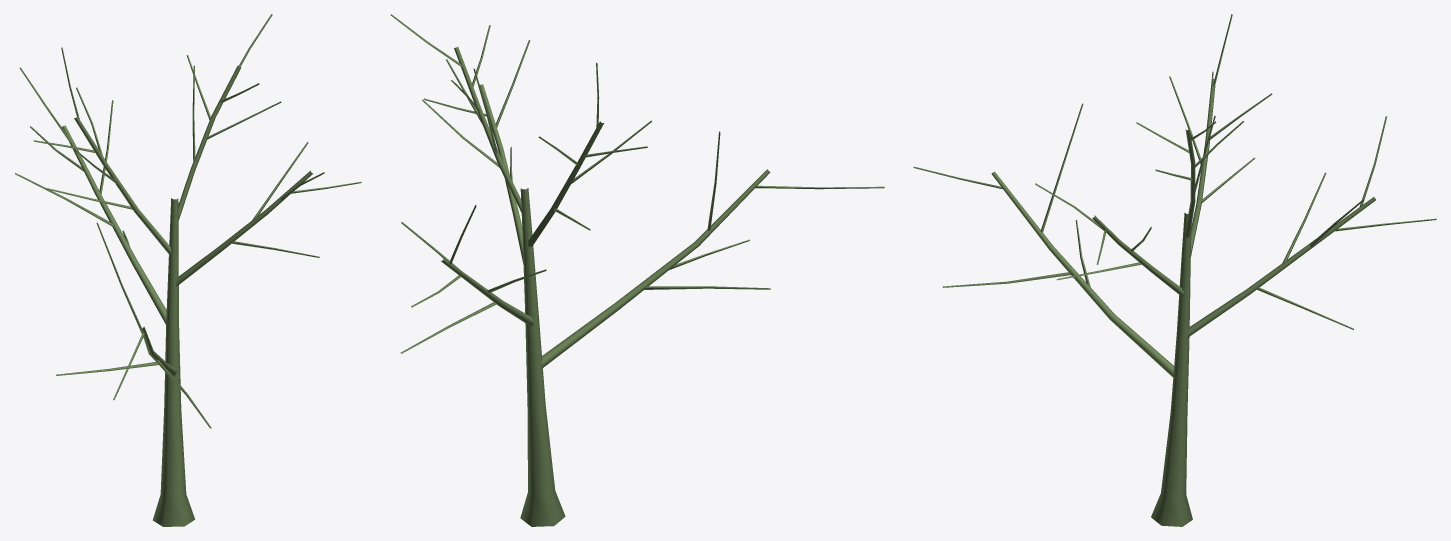
Rendered from tree_s1_lod1.glb.
3 views of the same model, side by side, from view 1: azimuth 30°, elevation 25°; view 2: azimuth 150°, elevation 25°; view 3: azimuth 270°, elevation 25° (orthographic). The views are drawn at different scales.
Size of the model in its own units: 6.13 by 8.1 by 8.24.
